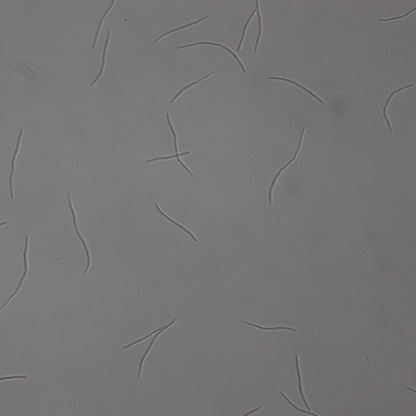Sensitive: (122, 317, 177, 379), (146, 113, 194, 176), (268, 127, 307, 204), (278, 354, 318, 416), (1, 235, 30, 313), (177, 41, 246, 72), (67, 193, 91, 275), (154, 202, 197, 242), (268, 76, 324, 103), (382, 84, 413, 132), (234, 1, 262, 52), (171, 72, 213, 103), (157, 16, 209, 41), (90, 31, 112, 85), (8, 129, 23, 198), (93, 1, 113, 49), (240, 320, 295, 334), (379, 7, 416, 24)
